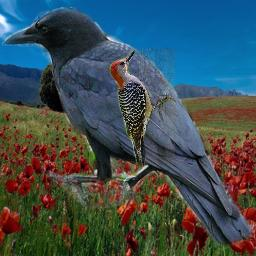Crow: (2, 7, 255, 253)
Woodpecker: (106, 48, 175, 165)
